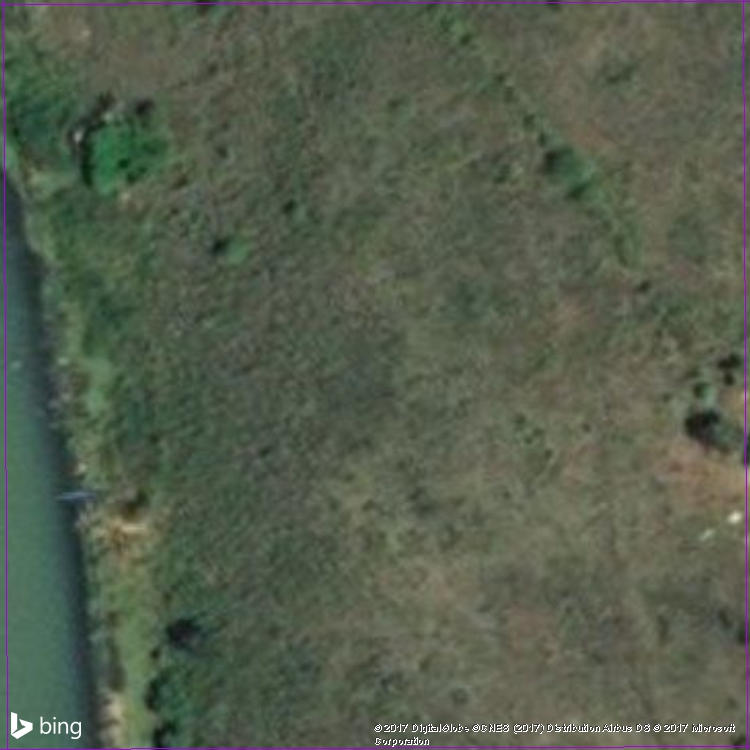boat: (37, 480, 110, 511)
